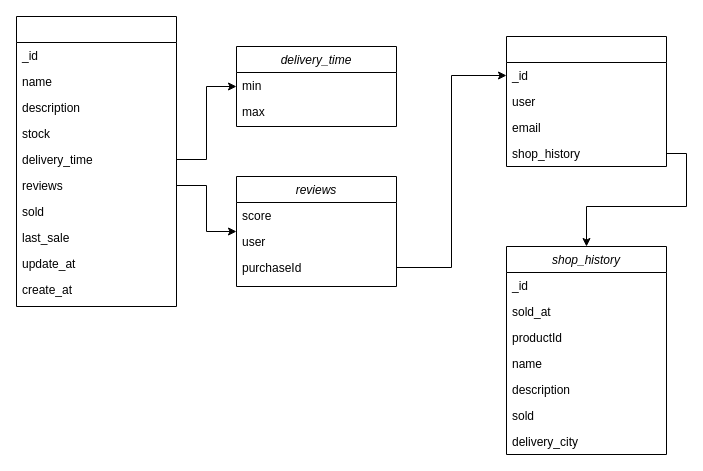
Image size: 703x471. Some labels were removed from this diagram. The box of each missing label's shape, as (x1, y1, x2, y2) in pixels:
product: (16, 16, 176, 306)
purchase: (506, 36, 666, 166)
